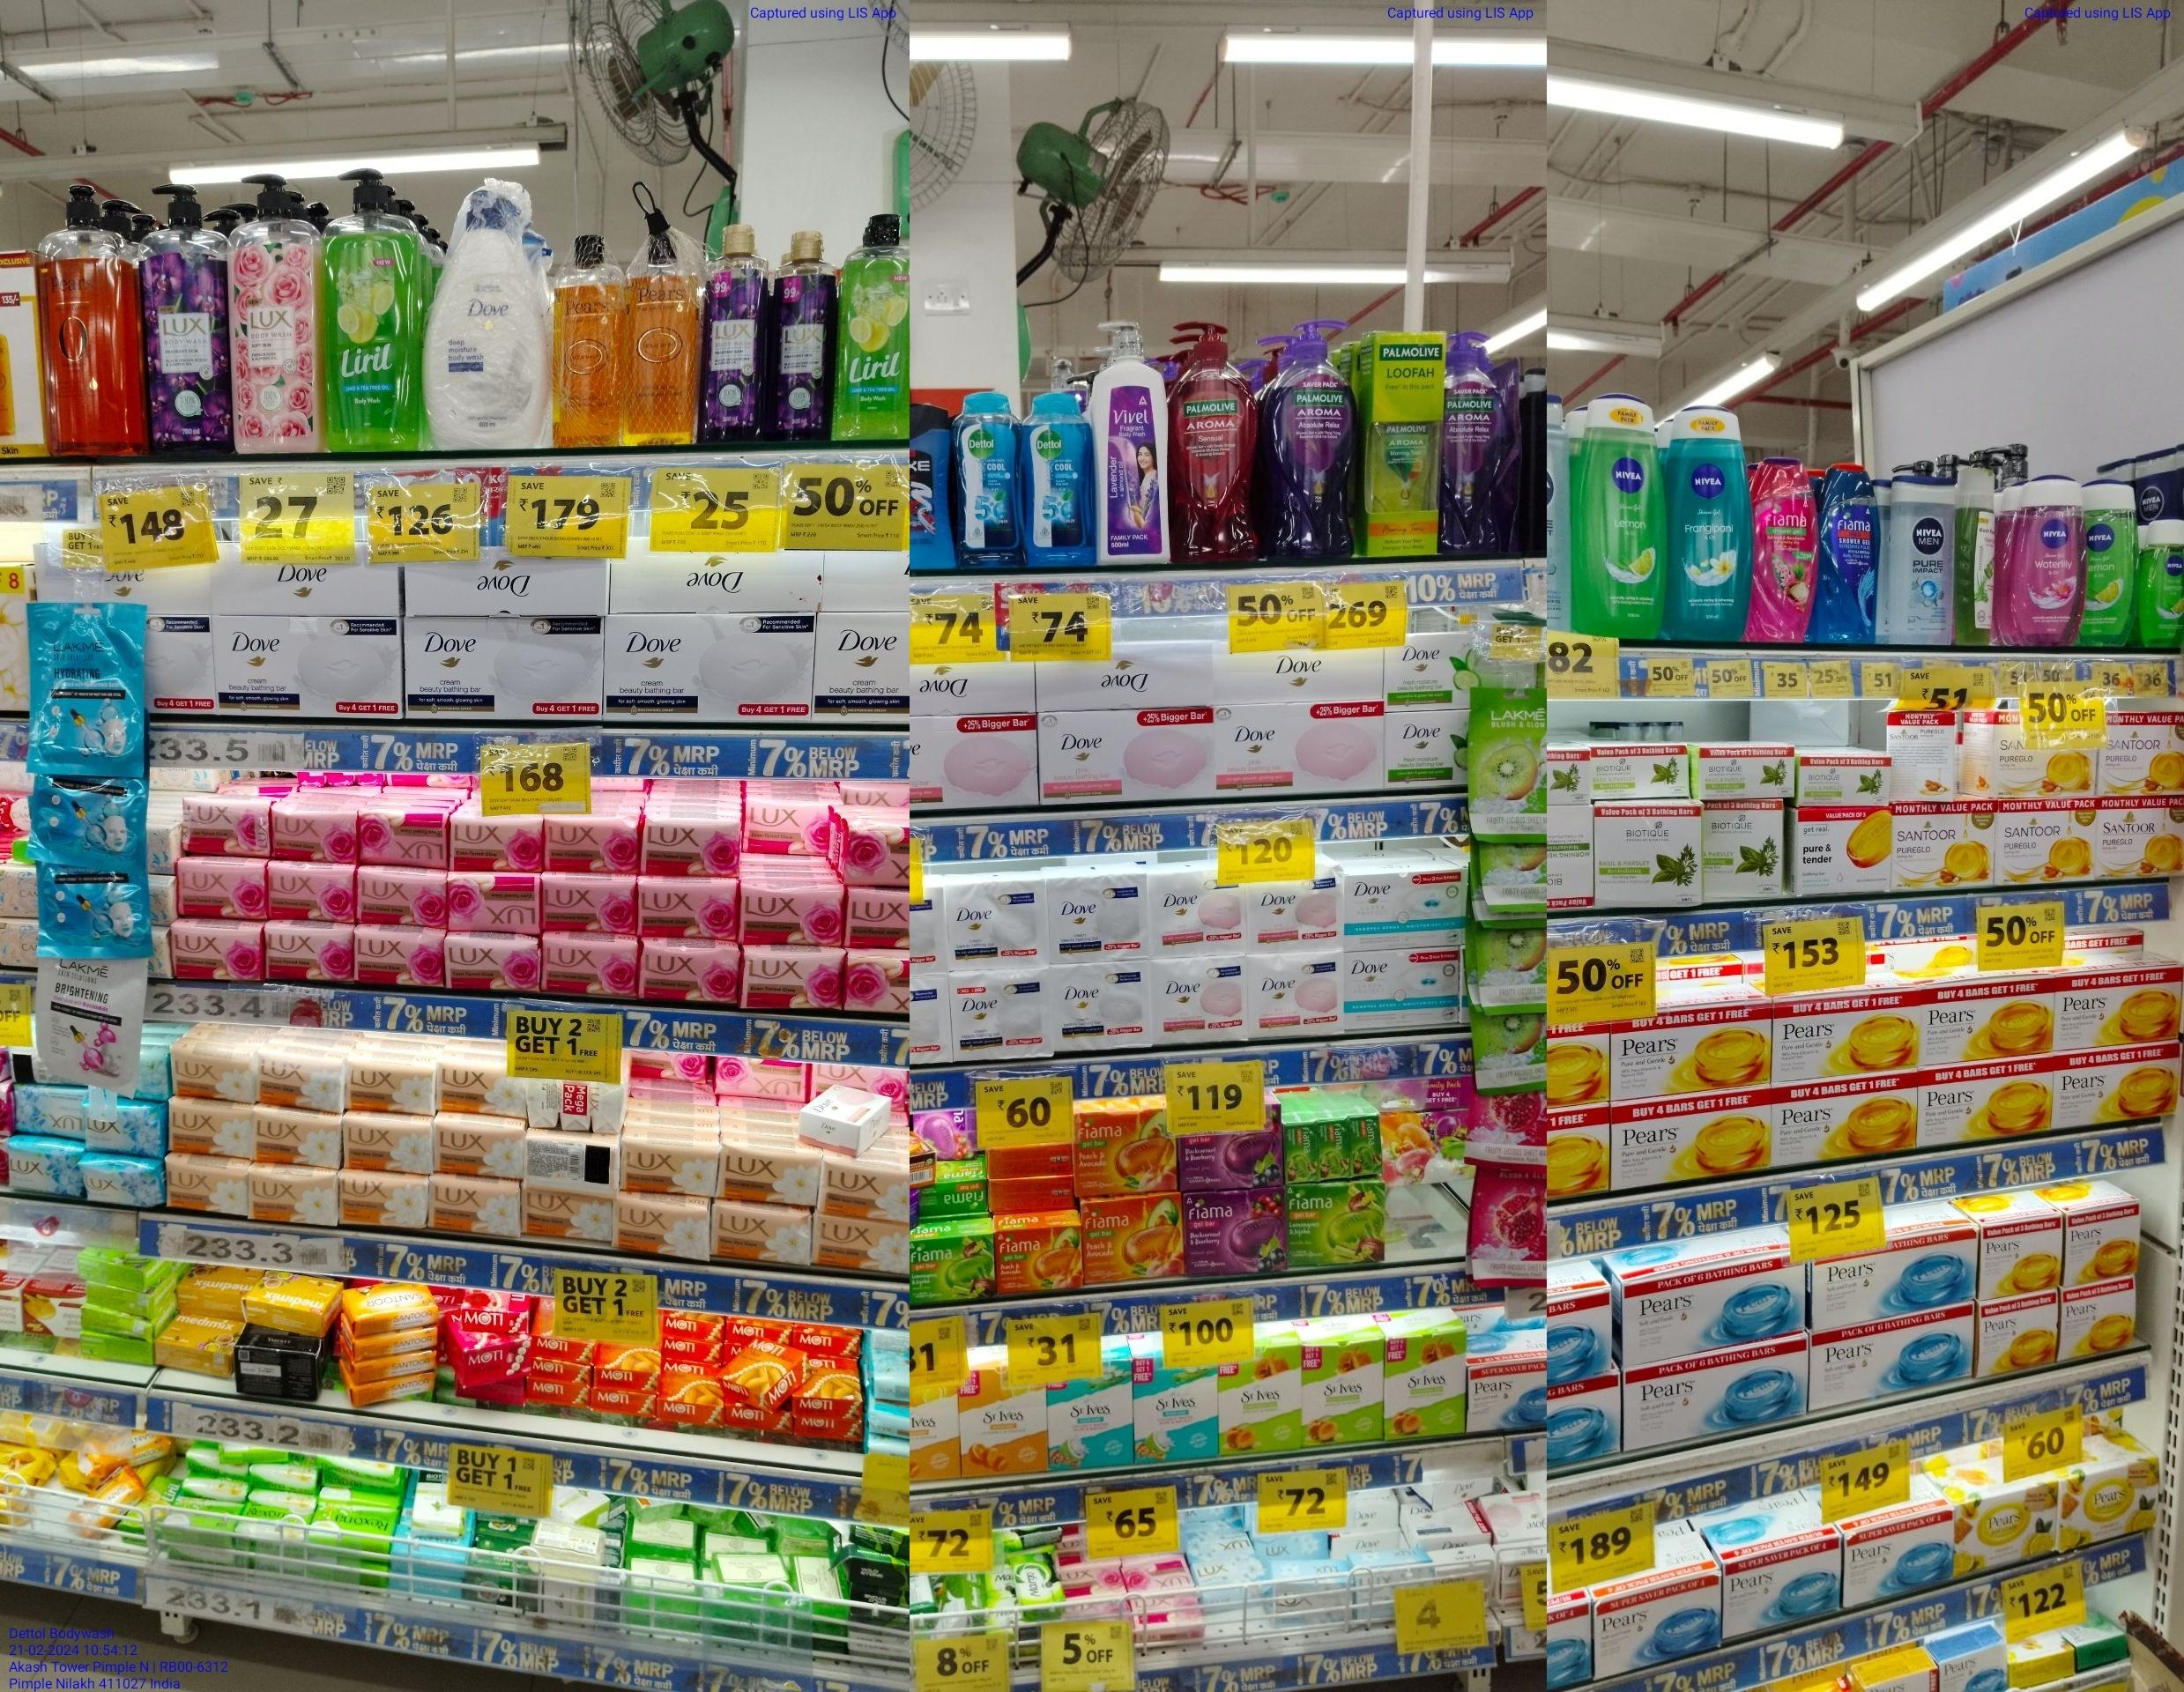Dettol_Bodywash_Cool: (952, 392, 1023, 567), (1023, 392, 1092, 567)
Fiama_Shower_Gel_Patchouli_and_Macadamia_250ML: (1750, 452, 1819, 641)
Liril_Lime_and_Tea_Tree_Oil_Body_Wash_250ML: (835, 213, 909, 439)
Lux_Black_Orchid_Scent_and_Juniper_Oil_Body_Wash_245ML: (697, 220, 764, 443), (766, 229, 835, 441)
Nivea_Shower_Gel_Frangipani_and_Oil_250ML: (1666, 402, 1751, 638)
Nivea_Shower_Gel_Lemon_and_Oil_250ML: (1569, 390, 1666, 645)
Nivea_Shower_Gel_Waterlily_and_Oil_250ML: (2005, 473, 2083, 643)
